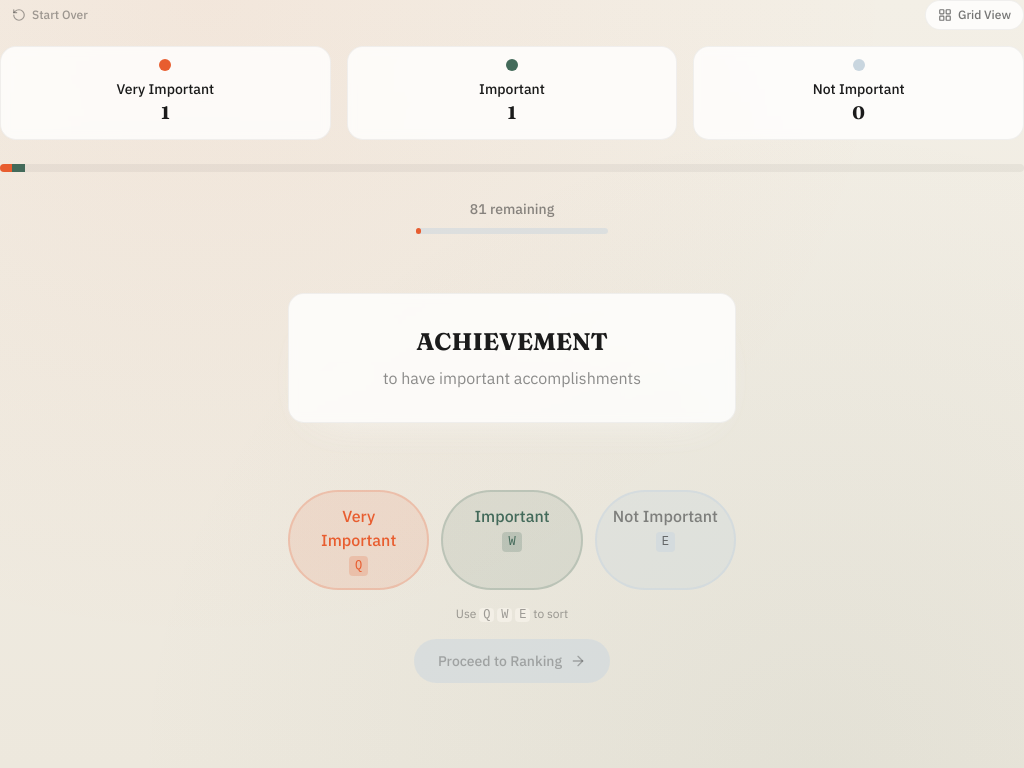
it: SortingPhase › search in grid view › clears search when clear button clicked
Click the button with aria-label "Switch to grid view" at (974, 15), box [925,0,1023,30]
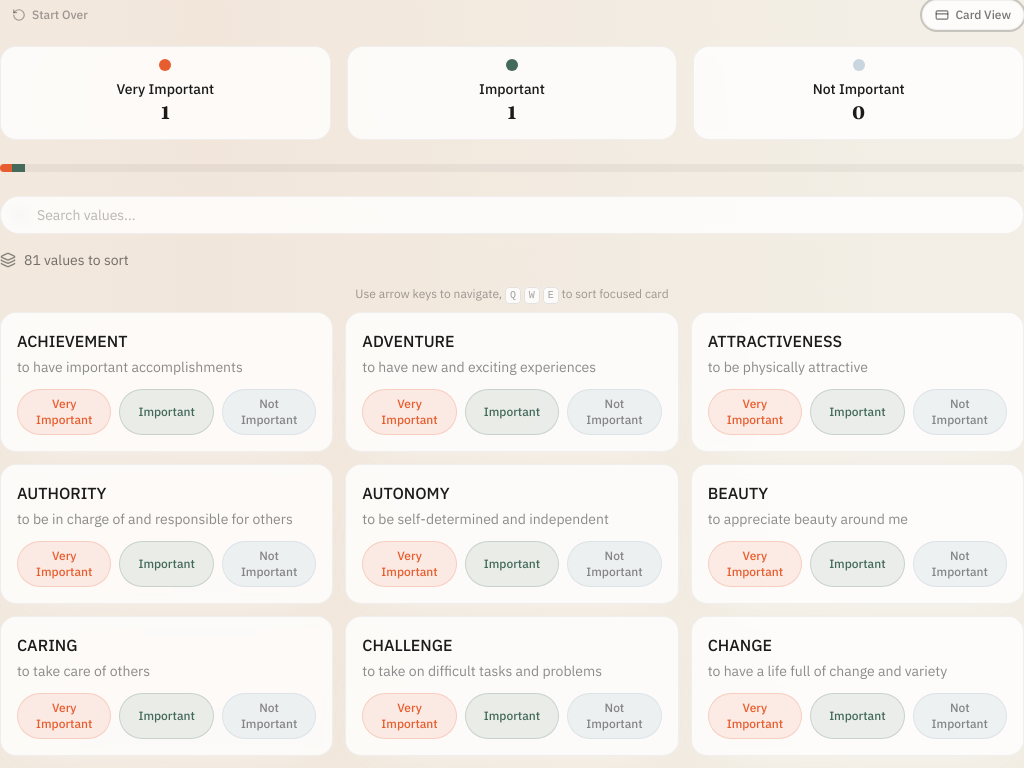
Type "test" into the field named "Search values by name or description" at (512, 215), box [0,196,1023,234]
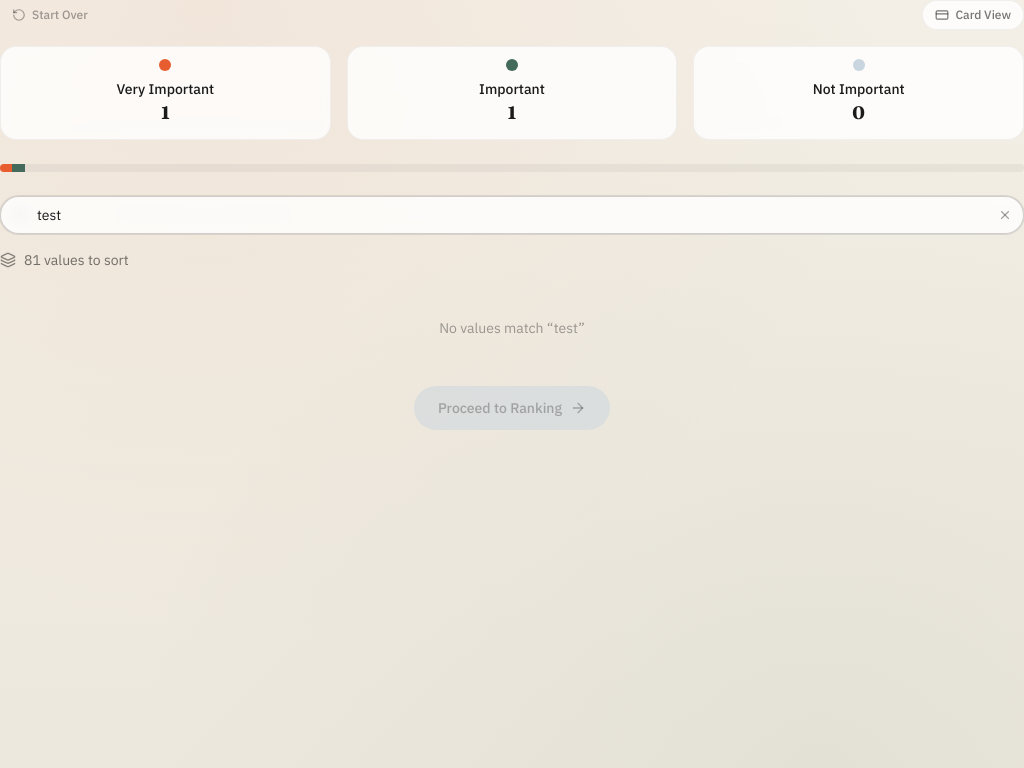
Click the button named "Clear search" at (1005, 215), box [998,208,1012,222]
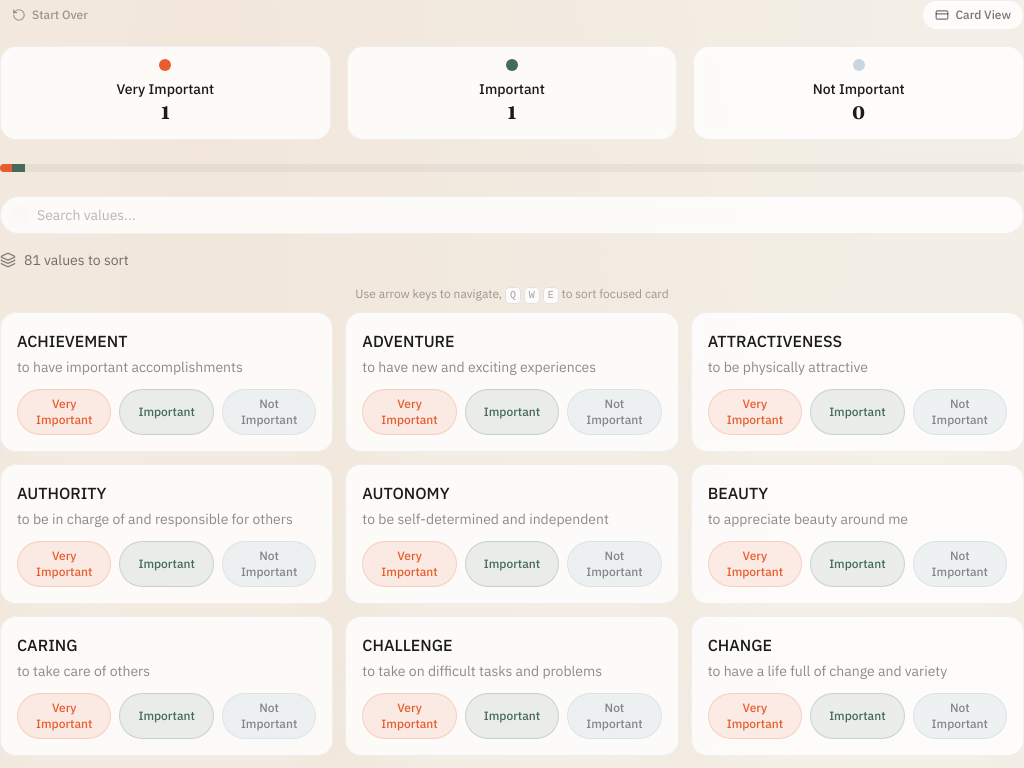
Result: the field named "Search values by name or description" is empty at [0,196,1023,234]
